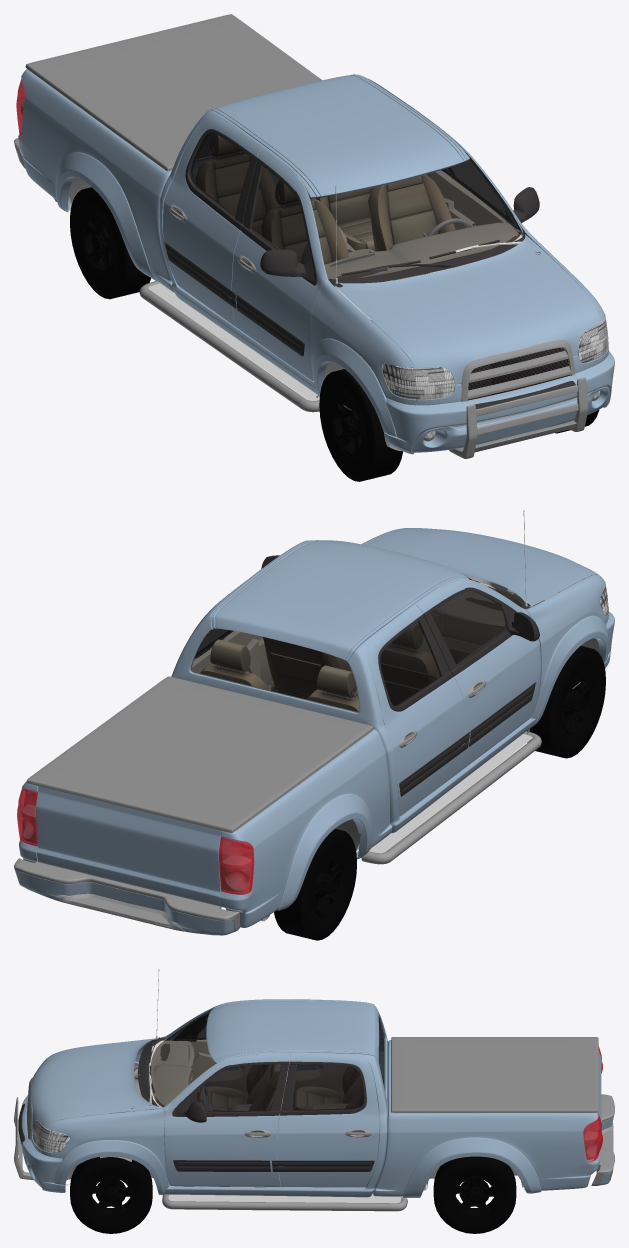
File: car.glb
3 views of the same model, one above another, from view 1: azimuth 30°, elevation 25°; view 2: azimuth 150°, elevation 25°; view 3: azimuth 270°, elevation 25° (orthographic). The views are drawn at different scales.
Parts seen in each view (by area): view 1: Object_65, Object_67, Object_79, Object_118, Object_63, Object_61, Object_98, Object_24, Object_71, Object_34, Object_102, Object_77 (+19 smaller); view 2: Object_79, Object_65, Object_67, Object_63, Object_61, Object_116, Object_98, Object_24, Object_81, Object_46, Object_34, Object_118 (+12 smaller); view 3: Object_65, Object_79, Object_63, Object_67, Object_61, Object_100, Object_118, Object_34, Object_116, Object_77, Object_81, Object_75 (+13 smaller).
Part boxes in pixels (left/top/right/bottom): Object_65: left=159, top=74, right=608, bottom=405; Object_67: left=55, top=152, right=601, bottom=384; Object_79: left=25, top=14, right=373, bottom=322; Object_118: left=251, top=149, right=522, bottom=279; Object_63: left=163, top=79, right=527, bottom=380; Object_61: left=18, top=69, right=296, bottom=292; Object_98: left=70, top=187, right=402, bottom=481; Object_24: left=261, top=174, right=455, bottom=264; Object_71: left=384, top=351, right=614, bottom=454; Object_34: left=254, top=179, right=522, bottom=319; Object_102: left=195, top=133, right=375, bottom=251; Object_77: left=164, top=187, right=575, bottom=409; Object_79: left=26, top=573, right=488, bottom=832; Object_65: left=171, top=529, right=608, bottom=833; Object_67: left=36, top=528, right=598, bottom=910; Object_63: left=194, top=540, right=540, bottom=816; Object_61: left=19, top=729, right=392, bottom=927; Object_116: left=190, top=622, right=440, bottom=712; Object_98: left=274, top=646, right=605, bottom=940; Object_24: left=263, top=624, right=439, bottom=723; Object_81: left=21, top=731, right=541, bottom=891; Object_46: left=14, top=858, right=239, bottom=931; Object_34: left=250, top=591, right=505, bottom=698; Object_118: left=430, top=577, right=506, bottom=665; Object_65: left=30, top=999, right=387, bottom=1197; Object_79: left=134, top=1037, right=598, bottom=1184; Object_63: left=164, top=999, right=379, bottom=1187; Object_67: left=30, top=1039, right=601, bottom=1197; Object_61: left=373, top=1040, right=600, bottom=1196; Object_100: left=70, top=1156, right=516, bottom=1233; Object_118: left=151, top=1010, right=281, bottom=1111; Object_34: left=149, top=1039, right=279, bottom=1173; Object_116: left=292, top=1016, right=385, bottom=1110; Object_77: left=18, top=1091, right=374, bottom=1171; Object_81: left=28, top=1077, right=598, bottom=1211; Object_75: left=172, top=1017, right=366, bottom=1116.
Size of the model in its own units: 0.2147 by 0.1963 by 0.5557.
Materials: 27 (4 with a texture image).
